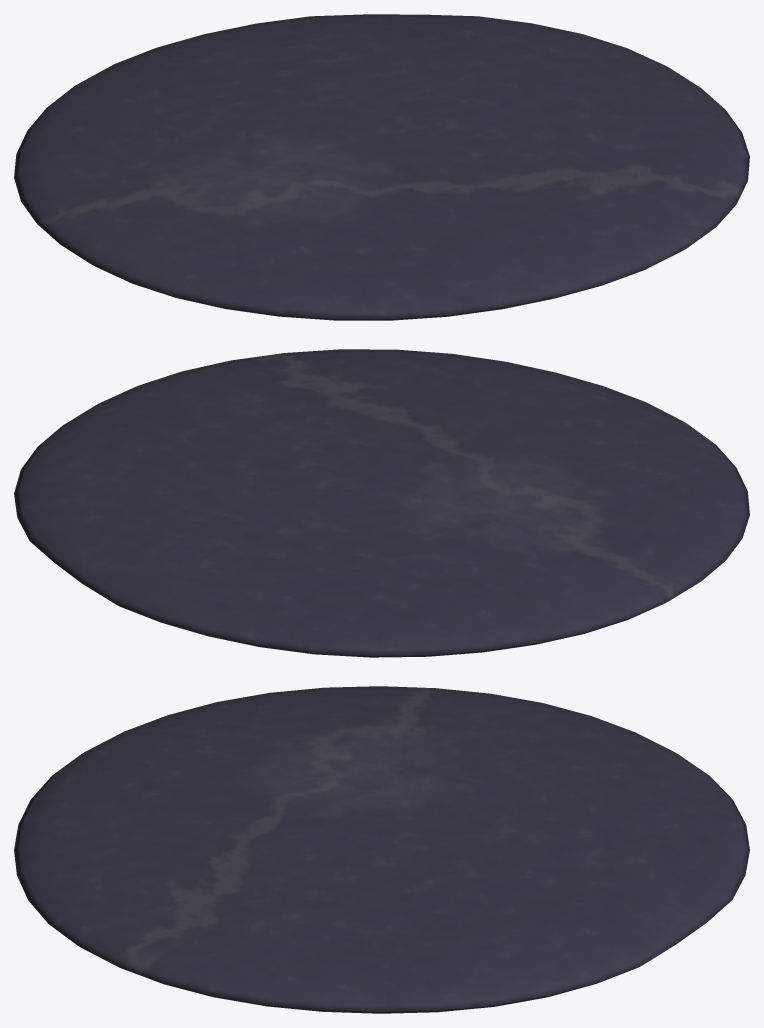
File: master_disc_08.glb
3 renders of one model, top to bottom at view 1: azimuth 30°, elevation 25°; view 2: azimuth 150°, elevation 25°; view 3: azimuth 270°, elevation 25°, orthographic. The views are drawn at different scales.
Parts seen in each view (by area): view 1: master_disc_08; view 2: master_disc_08; view 3: master_disc_08.
Part boxes in pixels (x1,y1,x2,y2): master_disc_08: [14, 14, 749, 320]; master_disc_08: [14, 349, 749, 657]; master_disc_08: [14, 686, 749, 1013].
Size of the model in its own units: 0.0892 by 0.00615 by 0.0857.
Materials: 1 (1 with a texture image).
